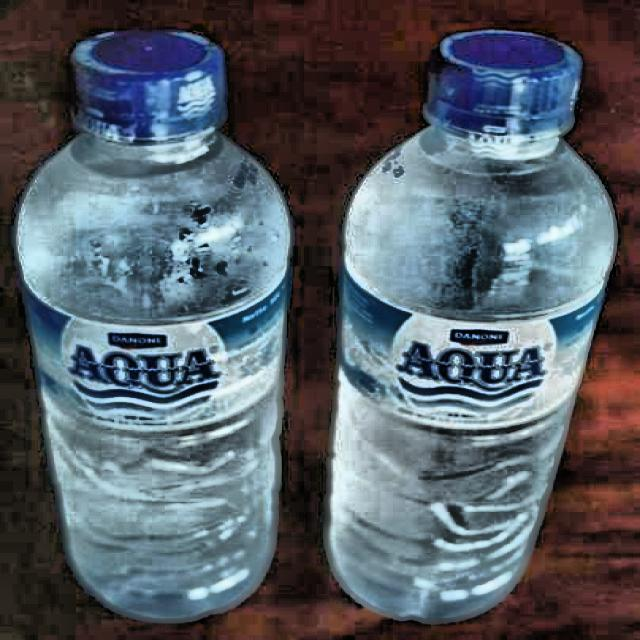Bottles: (1, 17, 320, 628), (318, 16, 626, 628)
